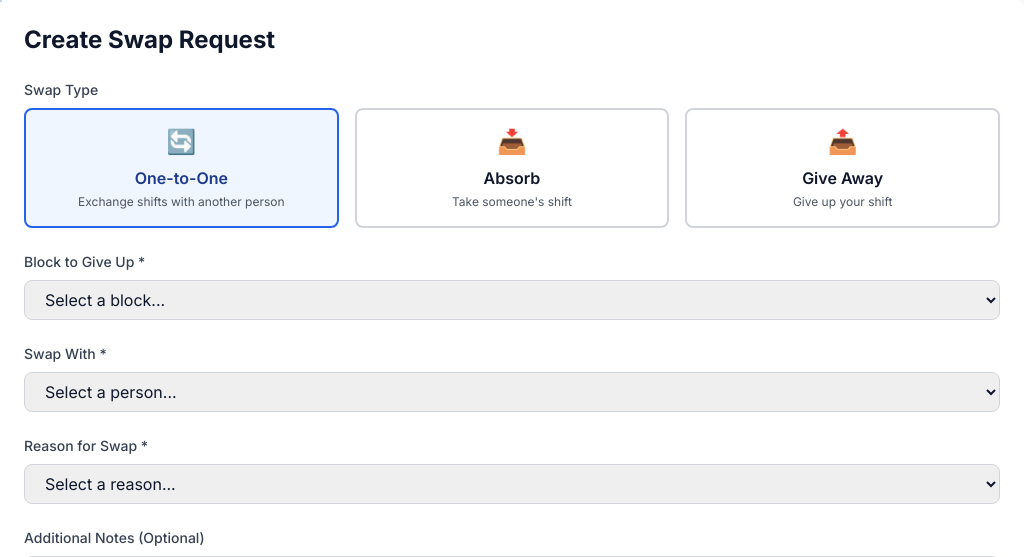
Test: SwapRequestForm › One-to-One Swap Flow › displays loading state while fetching target blocks
Step 1. Select "Dr. Alice Smith (PGY-2)" in the dropdown labelled "Swap With *" → (512, 392), box x1=24 y1=372 x2=1000 y2=412
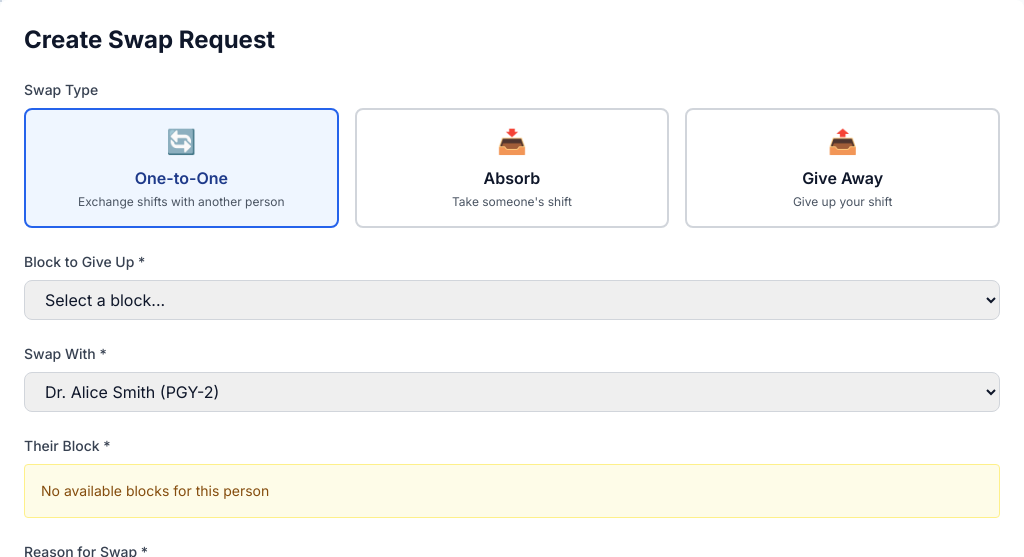
Result: the text "Loading available blocks" is shown at x1=24 y1=464 x2=1000 y2=518
